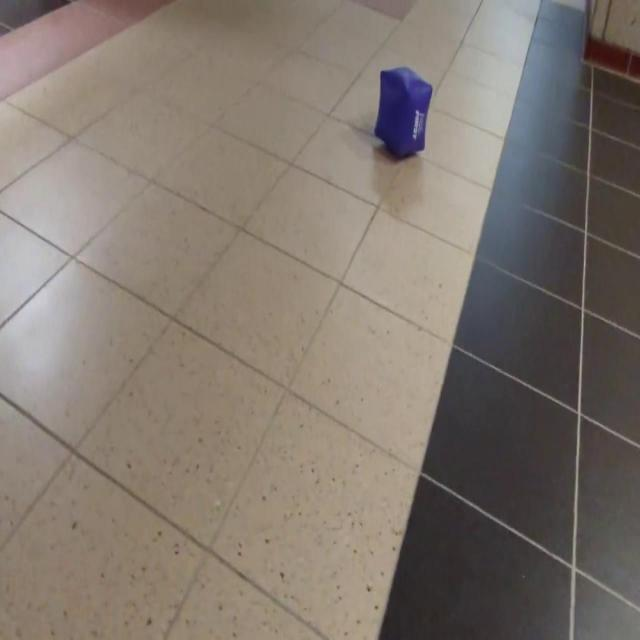frc_cube: (374, 67, 434, 158)
